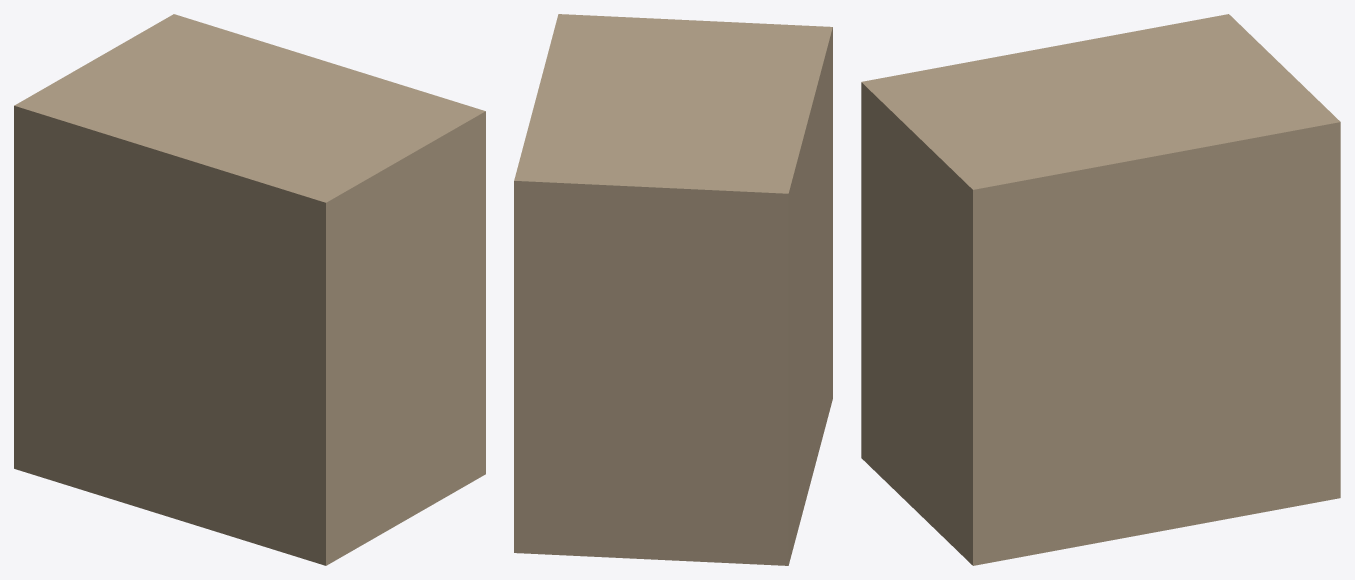
The model's file is bld_107716071.dae.
The picture shows the model from 3 angles, left to right: view 1: azimuth 30°, elevation 25°; view 2: azimuth 150°, elevation 25°; view 3: azimuth 270°, elevation 25°; orthographic projection. The views are drawn at different scales.
Parts seen in each view (by area): view 1: bld_107716071; view 2: bld_107716071; view 3: bld_107716071.
Boxes of the visible parts, <box> form: bld_107716071: <box>14,14,485,565</box>; bld_107716071: <box>514,14,832,565</box>; bld_107716071: <box>861,14,1340,565</box>.
Size of the model in its own units: 8.03 by 9.25 by 8.
